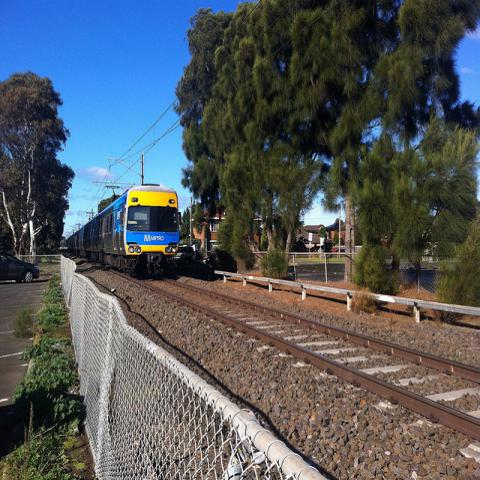car: (0, 252, 40, 284)
